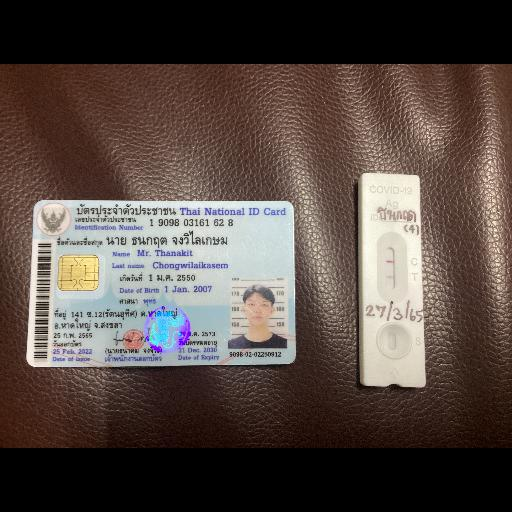Pos: (358, 171, 422, 385)
